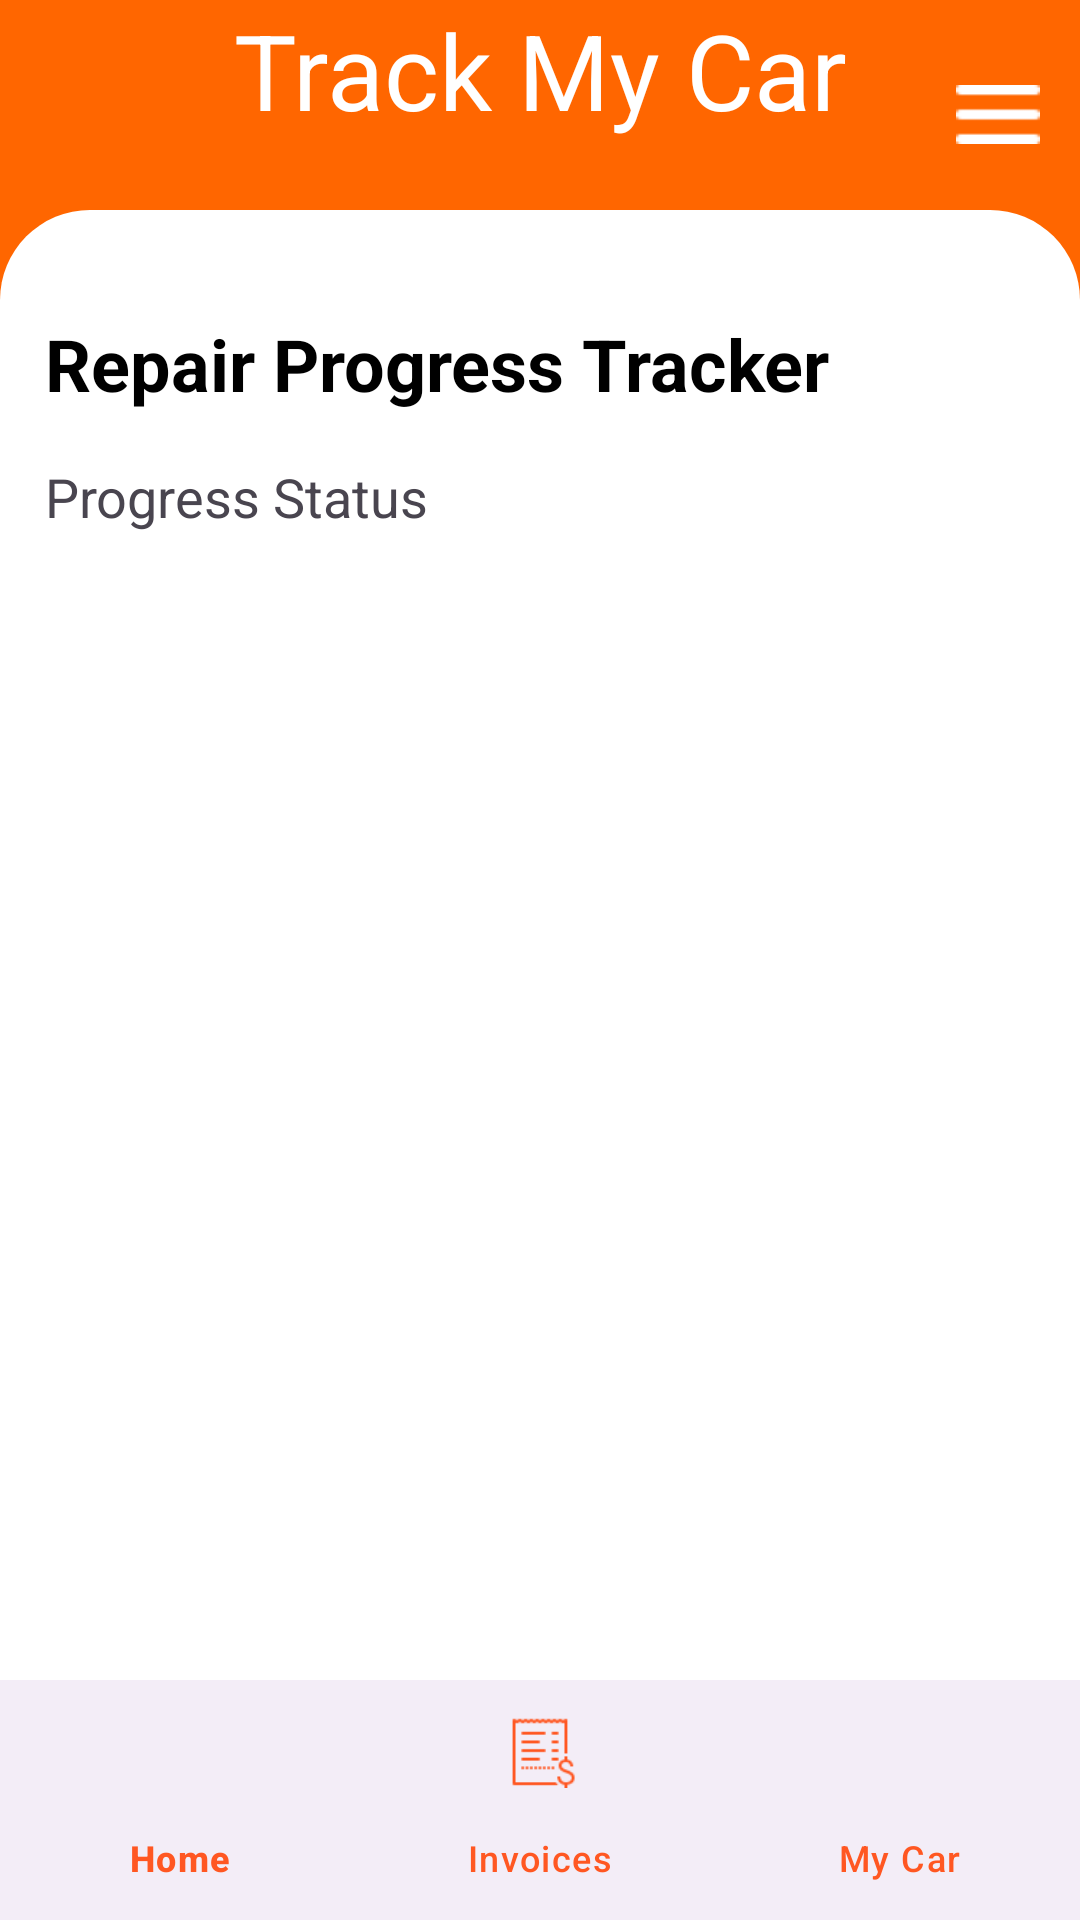

Screen size 1080 x 1920. Icon name, then its center in pixels as [x,y]:
menu: [998,114]
